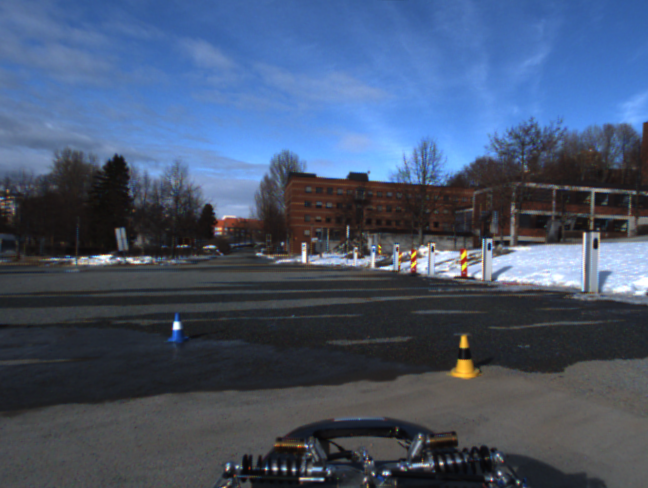cone-small-blue: (164, 312, 189, 343)
cone-small-yellow: (445, 333, 484, 379)
